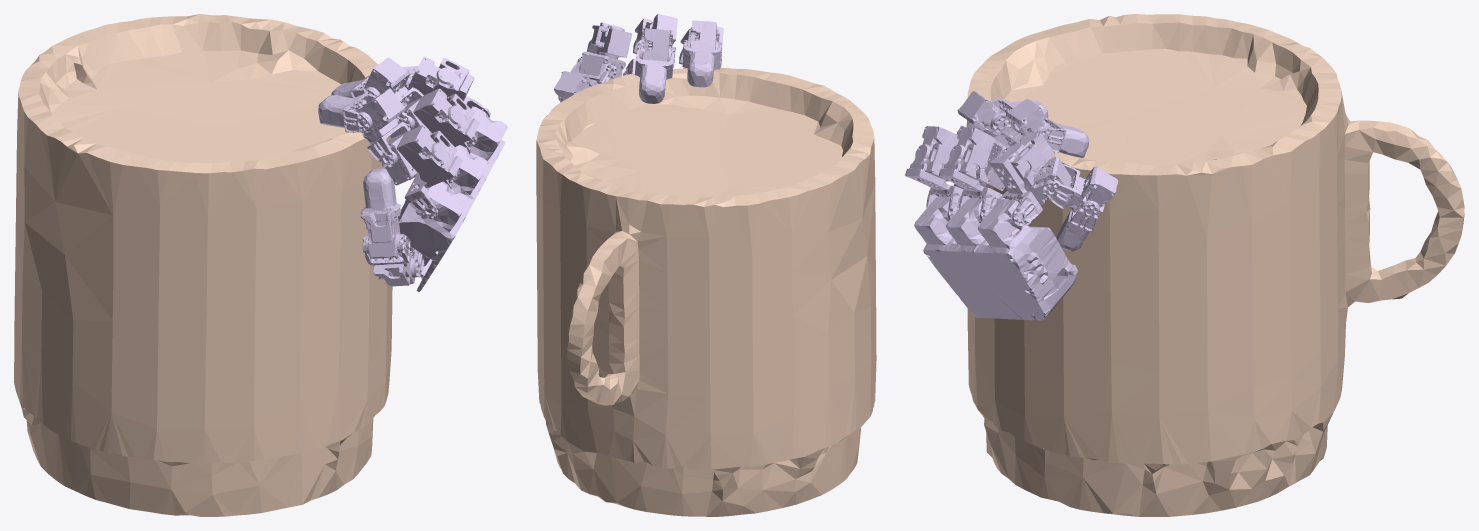
The model's file is 99b8ef833fd326-closed.glb.
3 views of the same model, side by side, from view 1: azimuth 30°, elevation 25°; view 2: azimuth 150°, elevation 25°; view 3: azimuth 270°, elevation 25° (orthographic). The views are drawn at different scales.
Parts seen in each view (by area): view 1: world, LEAP_hand; view 2: world, LEAP_hand; view 3: world, LEAP_hand.
Boxes of the visible parts, bbox=[...] form: world: bbox=[14, 14, 392, 516]; LEAP_hand: bbox=[318, 57, 507, 291]; world: bbox=[536, 68, 876, 516]; LEAP_hand: bbox=[554, 14, 723, 103]; world: bbox=[966, 14, 1464, 516]; LEAP_hand: bbox=[905, 91, 1118, 320].
Bounding box in the file's own units: 0.3739 × 0.3659 × 0.4623.
